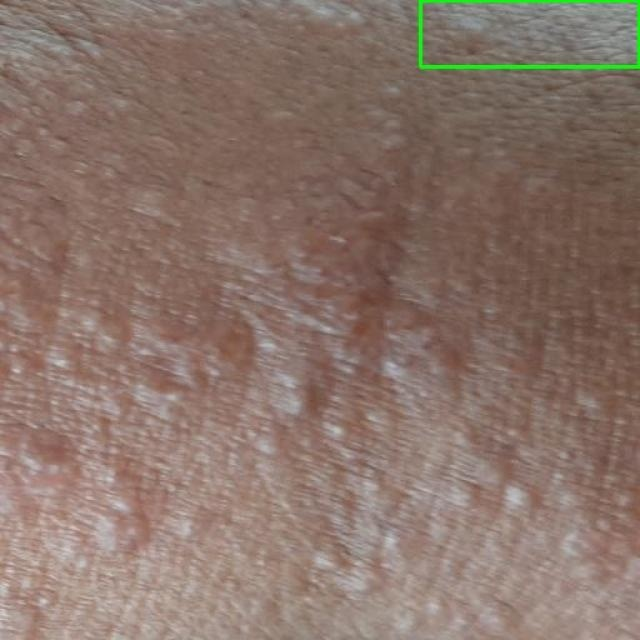Seborrheic Dermatitis: (420, 0, 639, 66)
